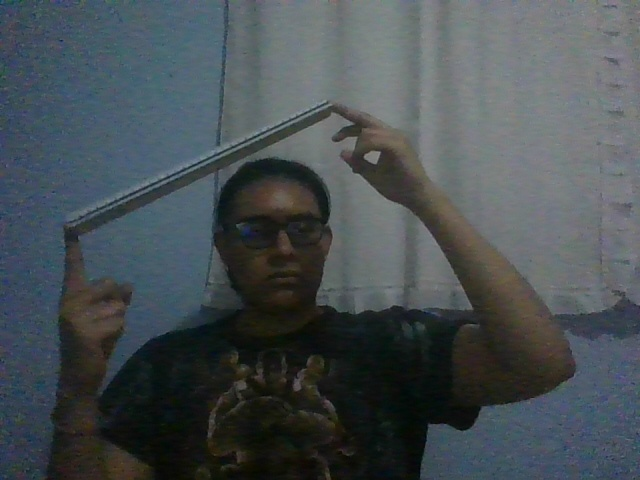regla: (64, 99, 332, 236)
